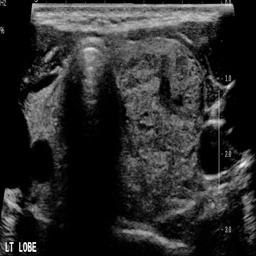mass: (117, 46, 200, 214)
